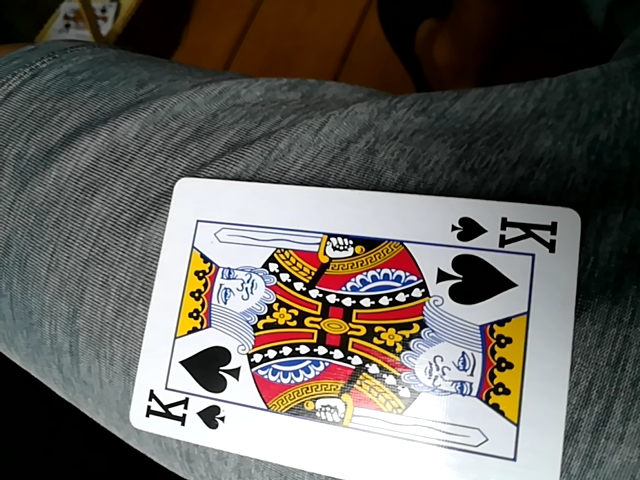ht k: (134, 171, 586, 479)
